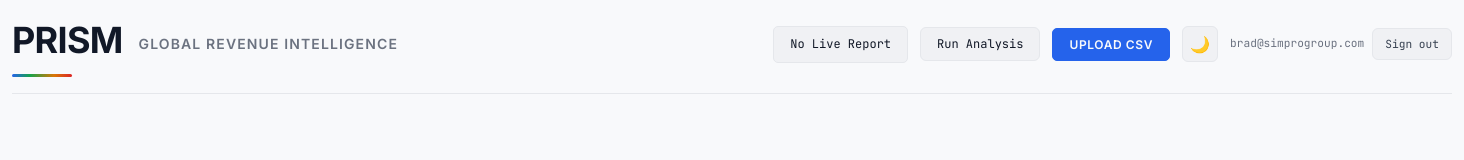
Test: Header run analysis › treats a gateway timeout as "run started" rather than a failure
Click the button "Run Analysis".
click(980, 44)  # box [920,27,1040,61]
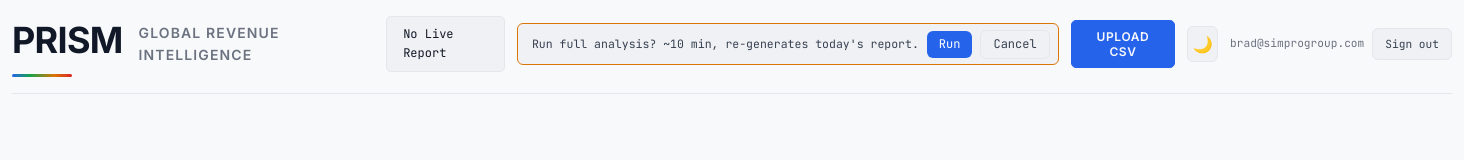
Click the button "Run".
click(950, 44)  # box [927,31,972,58]
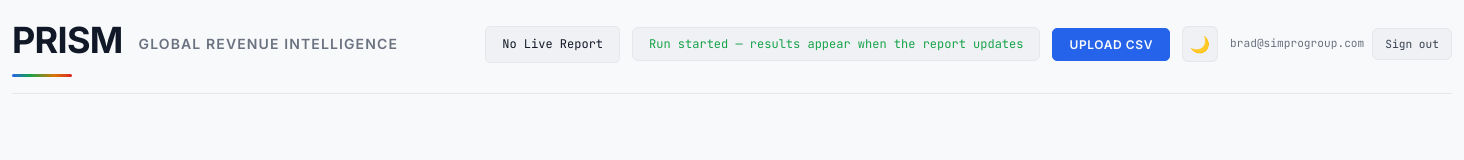
Check: the button "Run started — results appear when the report updates" is shown, box [632,27,1040,61]
